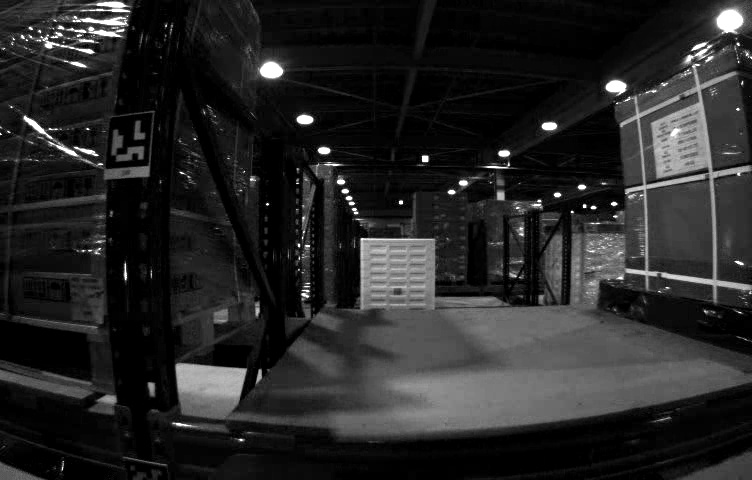True Barcode: (68, 274, 104, 325)
